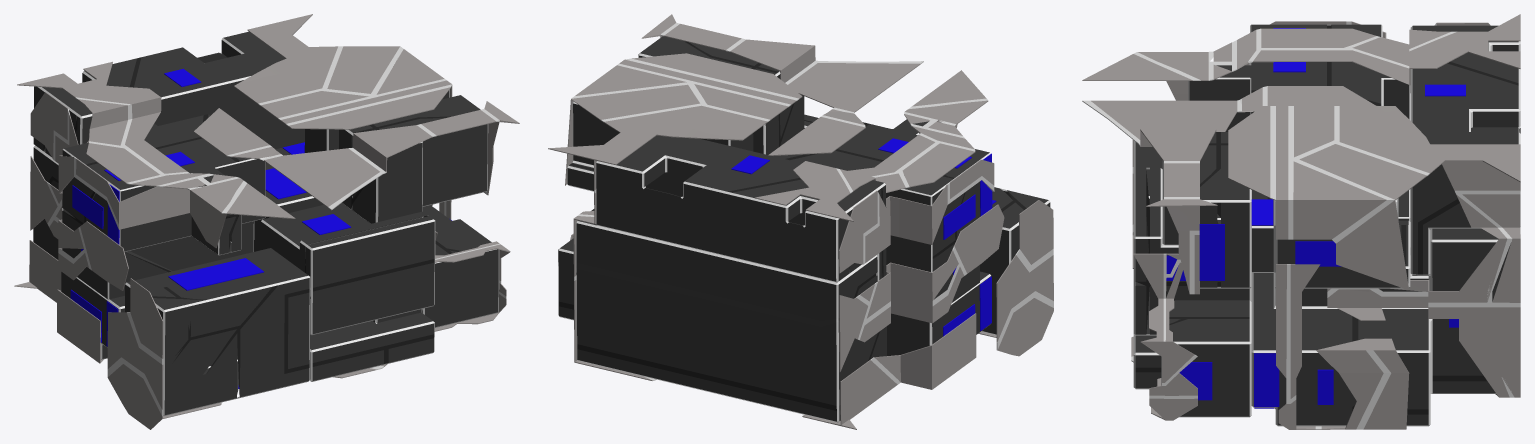
File: House4.glb
3 renders of one model, left to right at view 1: azimuth 30°, elevation 25°; view 2: azimuth 150°, elevation 25°; view 3: azimuth 270°, elevation 25°, orthographic. The views are drawn at different scales.
Parts seen in each view (by area): view 1: Layer1, Layer3, Layer2; view 2: Layer1, Layer3, Layer2; view 3: Layer3, Layer1, Layer2.
Boxes of the visible parts, x1,y1,x2,y2 form: Layer1: (33, 31, 499, 415); Layer3: (14, 14, 519, 429); Layer2: (70, 68, 452, 388); Layer1: (558, 36, 1050, 422); Layer3: (548, 14, 1053, 429); Layer2: (731, 138, 996, 336); Layer3: (1082, 14, 1520, 429); Layer1: (1133, 24, 1520, 426); Layer2: (1166, 28, 1465, 408).
Size of the model in its own units: 48.77 by 28.74 by 44.44.
